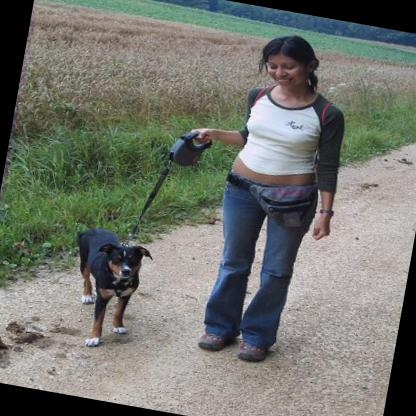Appenzeller: (48, 219, 156, 355)
